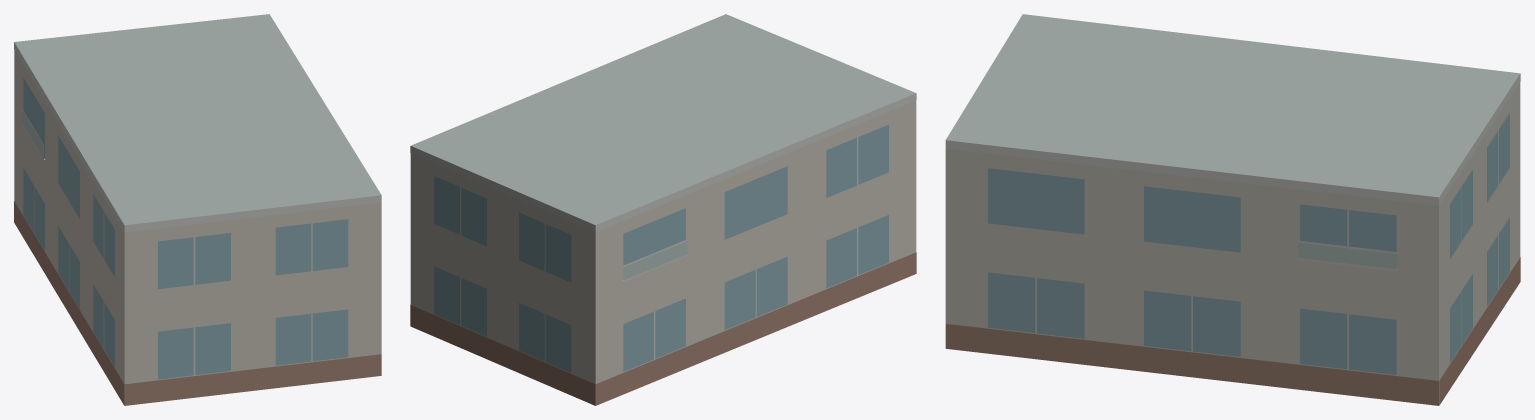
The model's file is survey-upis-32996344.glb.
3 renders of one model, left to right at view 1: azimuth 30°, elevation 25°; view 2: azimuth 150°, elevation 25°; view 3: azimuth 270°, elevation 25°, orthographic. The views are drawn at different scales.
Parts seen in each view (by area): view 1: survey-upis-32996344.tmp; view 2: survey-upis-32996344.tmp; view 3: survey-upis-32996344.tmp.
Part boxes in pixels (x1=…): survey-upis-32996344.tmp: x1=14, y1=14, x2=381, y2=405; survey-upis-32996344.tmp: x1=410, y1=14, x2=916, y2=405; survey-upis-32996344.tmp: x1=945, y1=14, x2=1520, y2=405.
Size of the model in its own units: 11.51 by 6.1 by 15.25.
